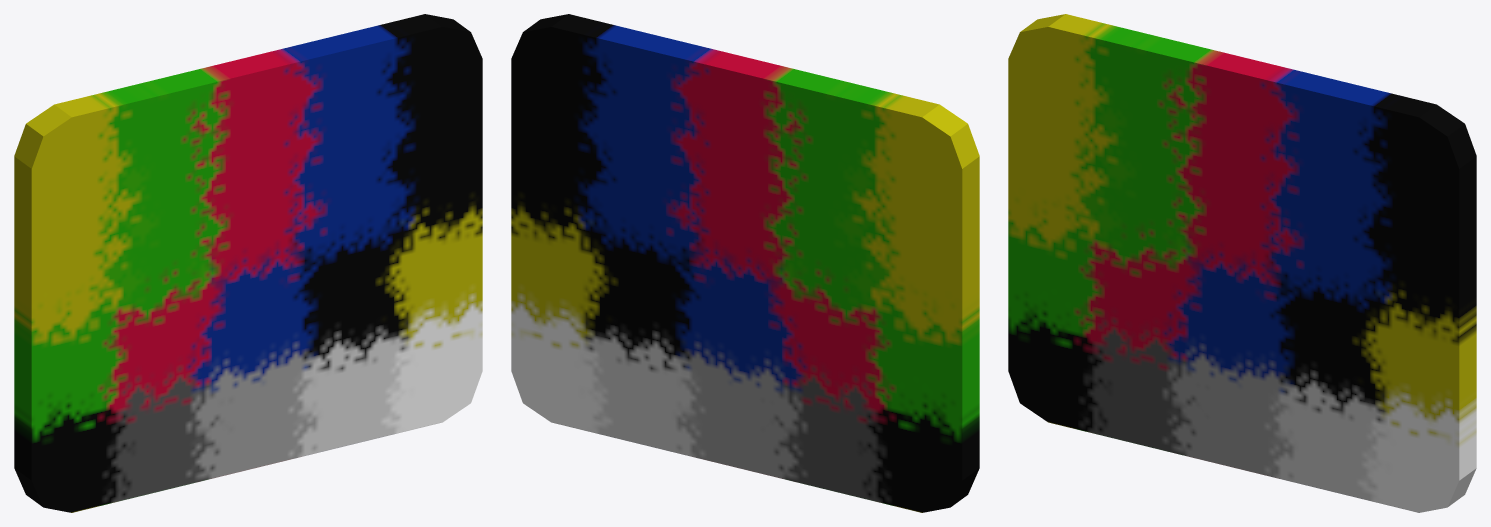
Rendered from TVFACE5 1.fbx.
3 renders of one model, left to right at view 1: azimuth 30°, elevation 25°; view 2: azimuth 150°, elevation 25°; view 3: azimuth 330°, elevation 25°, orthographic.
Visible parts, largest first — view 1: TVFACE5; view 2: TVFACE5; view 3: TVFACE5.
Boxes of the visible parts, x1,y1,x2,y2 form: TVFACE5: (14, 14, 482, 512); TVFACE5: (511, 14, 979, 512); TVFACE5: (1008, 14, 1476, 512).
Size of the model in its own units: 0.7411 by 0.6212 by 0.05.
